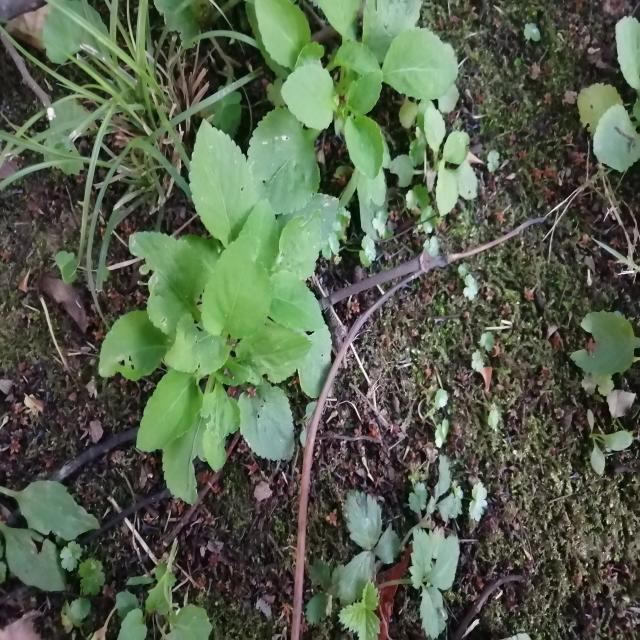Viola: (100, 130, 333, 453)
